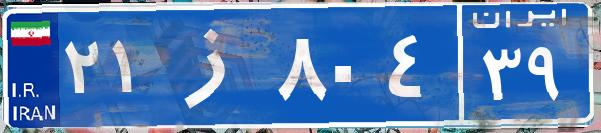0: (330, 28, 385, 110)
1: (110, 28, 158, 105)
2: (57, 26, 110, 107)
3: (475, 38, 525, 113)
4: (385, 28, 445, 110)
8: (273, 28, 330, 110)
9: (525, 38, 570, 115)
ز: (158, 15, 273, 115)
